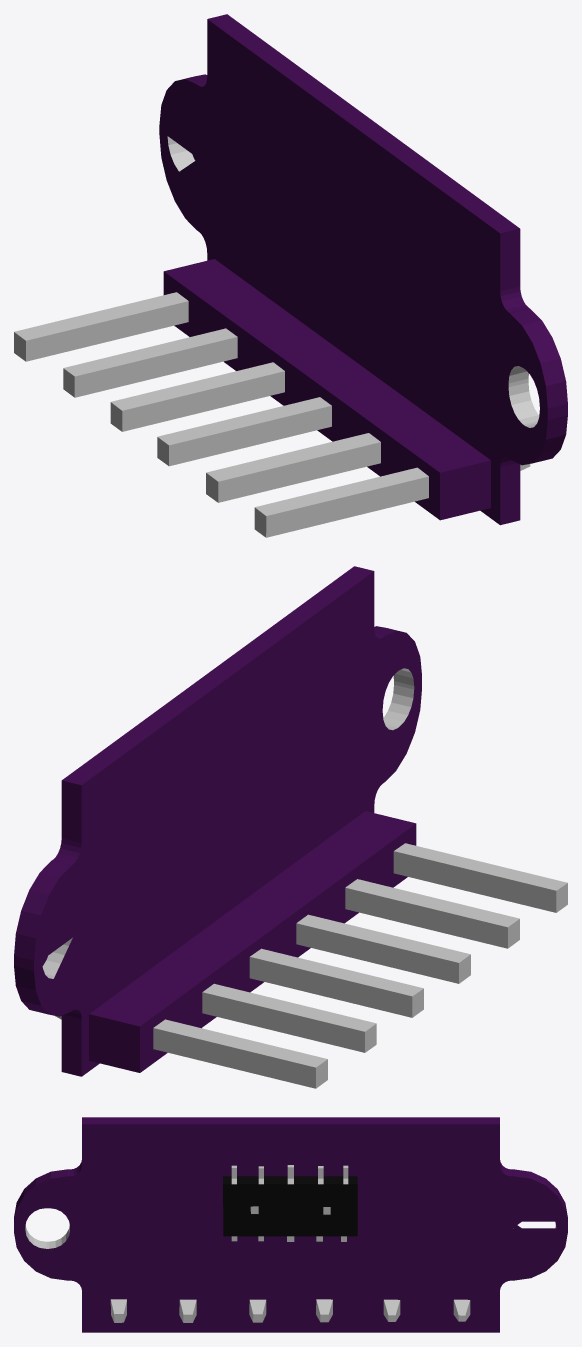
The model's file is distance_sensor.fbx.
The picture shows the model from 3 angles, top to bottom: view 1: azimuth 30°, elevation 25°; view 2: azimuth 150°, elevation 25°; view 3: azimuth 270°, elevation 25°; orthographic projection. The views are drawn at different scales.
Parts seen in each view (by area): view 1: Cube; view 2: Cube; view 3: Cube.
Boxes of the visible parts, box(x1,y1,x2,y2) form: Cube: box(14, 14, 567, 537); Cube: box(14, 566, 567, 1088); Cube: box(14, 1117, 567, 1332).
Bounding box in the file's own units: 39.28 × 41.07 × 99.09.
